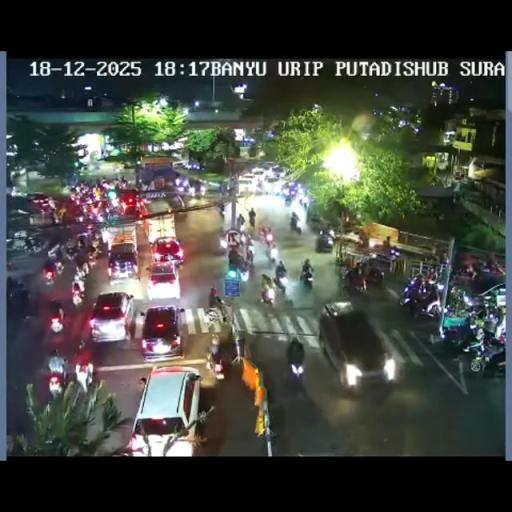Car: (317, 302, 397, 391), (128, 364, 204, 454), (138, 304, 185, 360), (88, 290, 136, 342), (146, 262, 182, 300), (106, 242, 140, 282), (150, 236, 186, 266), (117, 189, 144, 217), (29, 193, 57, 214), (263, 174, 281, 192), (237, 175, 254, 193), (181, 160, 201, 171), (250, 167, 266, 180)
Motorcycle: (226, 234, 298, 309), (398, 277, 442, 318), (437, 309, 477, 348), (466, 333, 504, 373), (278, 177, 308, 209), (46, 355, 68, 396), (446, 286, 472, 315), (12, 283, 30, 320), (42, 254, 64, 284), (343, 266, 367, 293), (451, 265, 479, 288), (286, 351, 305, 384), (74, 362, 93, 392), (206, 351, 225, 380), (364, 266, 385, 289), (73, 256, 91, 282), (299, 258, 314, 288), (204, 305, 222, 328), (49, 308, 64, 334), (482, 260, 506, 276), (26, 238, 46, 256), (260, 285, 275, 308), (65, 240, 81, 261), (318, 224, 336, 242), (274, 269, 288, 292), (264, 240, 278, 262), (71, 284, 84, 307), (209, 287, 222, 310), (103, 202, 119, 220), (236, 262, 250, 282), (84, 206, 98, 224), (424, 266, 438, 284), (288, 218, 302, 234), (246, 241, 255, 263), (358, 230, 369, 248), (228, 247, 239, 265), (388, 245, 401, 258), (86, 248, 98, 262), (343, 216, 352, 232), (255, 180, 265, 194), (51, 210, 61, 224), (76, 236, 86, 249), (440, 252, 449, 266), (452, 190, 461, 204), (236, 214, 244, 229), (382, 235, 390, 250), (284, 194, 292, 206), (217, 205, 224, 218), (6, 260, 15, 270), (249, 214, 255, 228), (188, 184, 195, 196), (298, 198, 306, 208), (219, 238, 227, 248), (120, 177, 127, 188), (200, 184, 206, 196), (218, 183, 224, 195)
